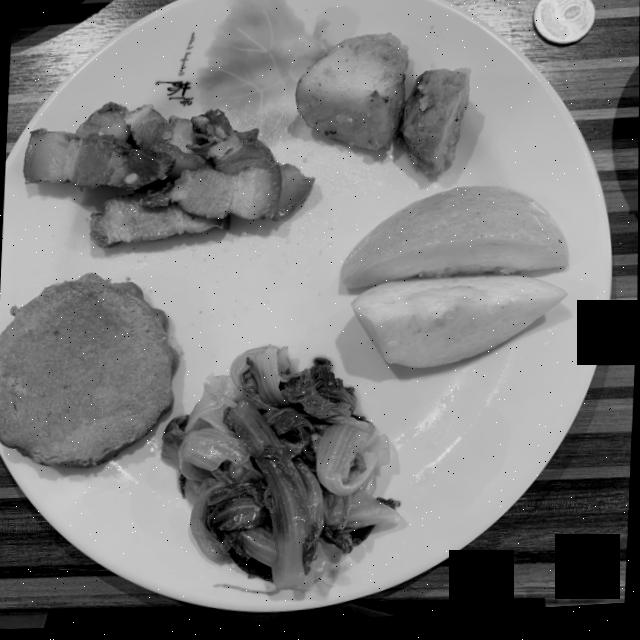Spam: (0, 275, 177, 468)
coin: (532, 0, 594, 50)
fried potato: (294, 37, 470, 181)
grilled pork: (23, 103, 313, 249)
guava -sliced-: (340, 192, 567, 372)
mustard greens: (161, 349, 400, 595)
